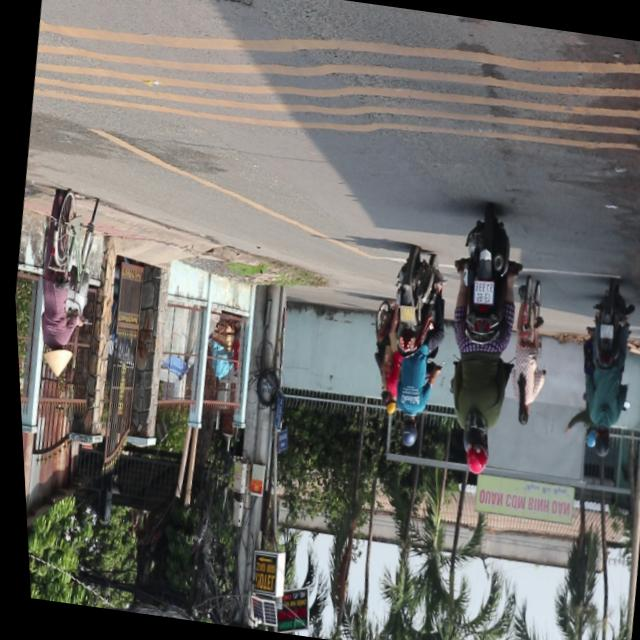helmet: (452, 428, 488, 477), (392, 415, 414, 449)
licenseplate: (419, 204, 535, 482), (366, 247, 456, 453)
nohelmet: (468, 282, 491, 306), (395, 306, 413, 324)
